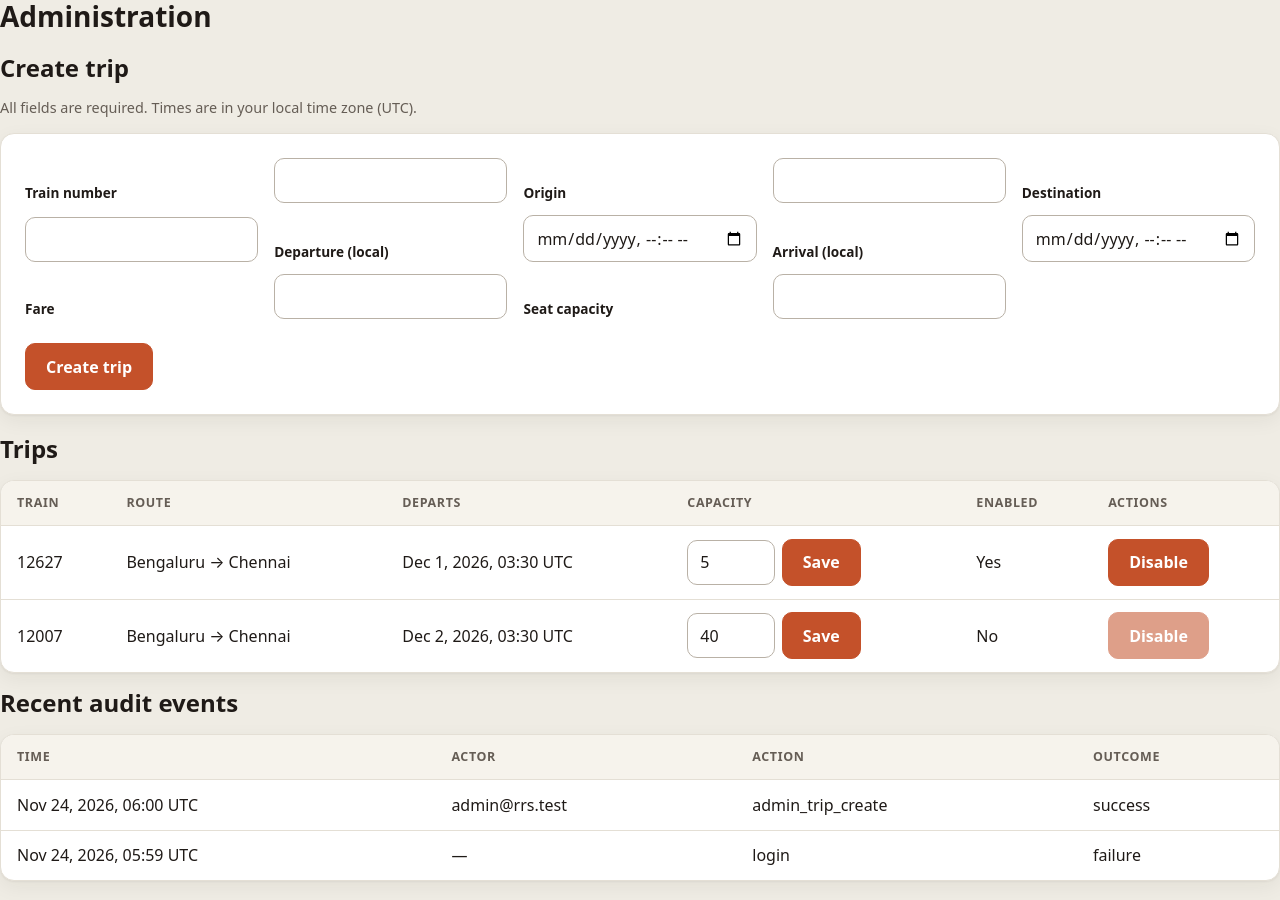
administration page › disabling asks for confirmation and sends a DELETE only after OK
This screenshot has width=1280, height=900.
Click the button "Disable" in the row of "12627".
click(1158, 562)  # box [1108,539,1209,586]
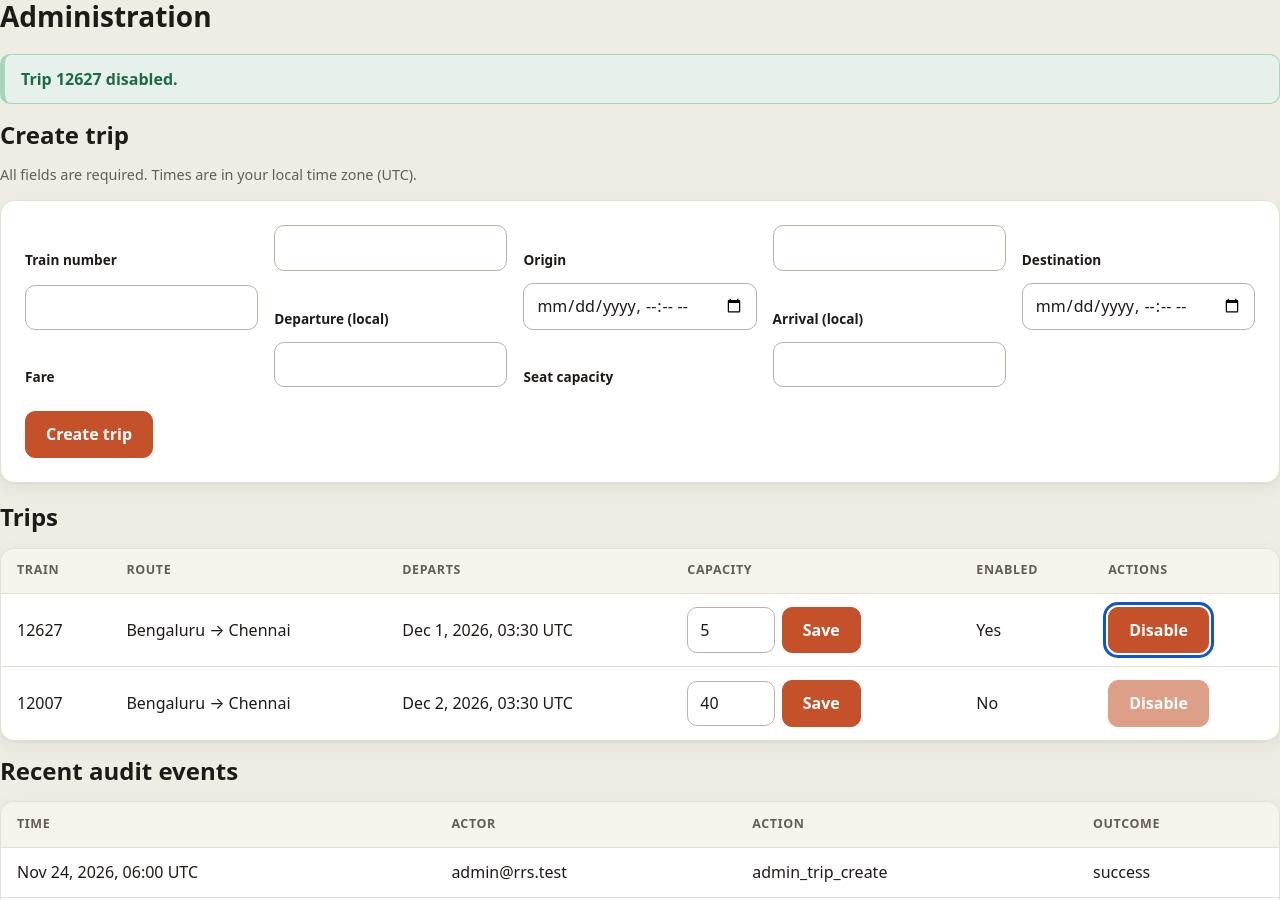
expect the message reads "Trip 12627 disabled.": met, box [21,68,178,90]
